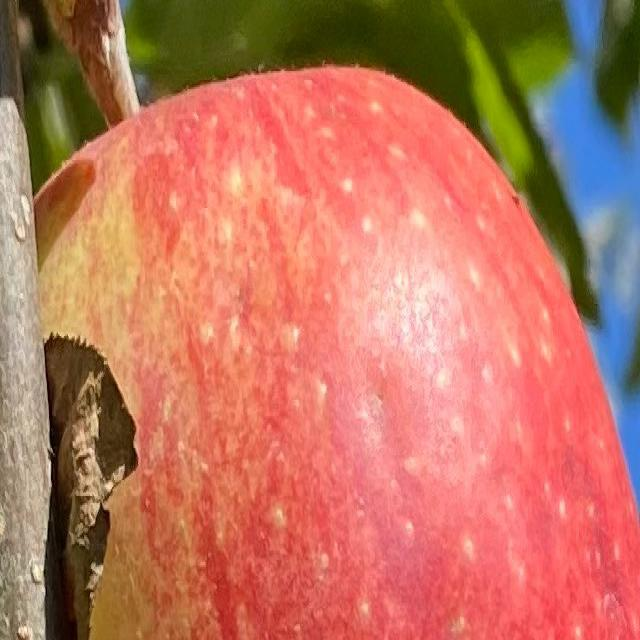Apples: (34, 64, 639, 638)
